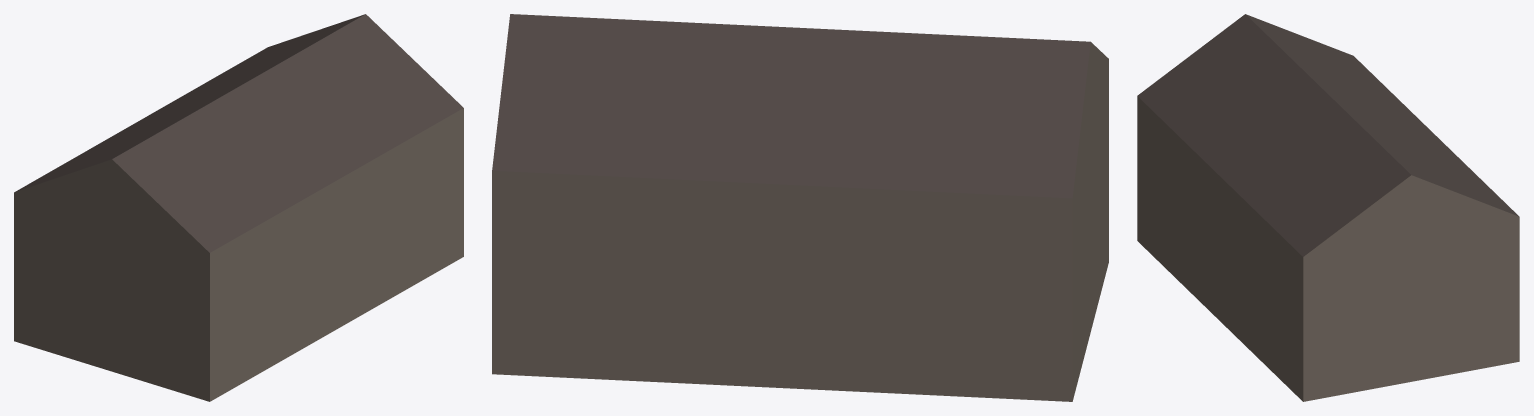
3 views of the same model, side by side, from view 1: azimuth 30°, elevation 25°; view 2: azimuth 150°, elevation 25°; view 3: azimuth 270°, elevation 25° (orthographic). The views are drawn at different scales.
Visible parts, largest first — view 1: HP-w859457519; view 2: HP-w859457519; view 3: HP-w859457519.
Part boxes in pixels (box(x1,y1,x2,y2)): HP-w859457519: box(14, 14, 463, 401); HP-w859457519: box(492, 14, 1108, 401); HP-w859457519: box(1137, 14, 1519, 401).
Size of the model in its own units: 26.83 by 12.85 by 21.54.
